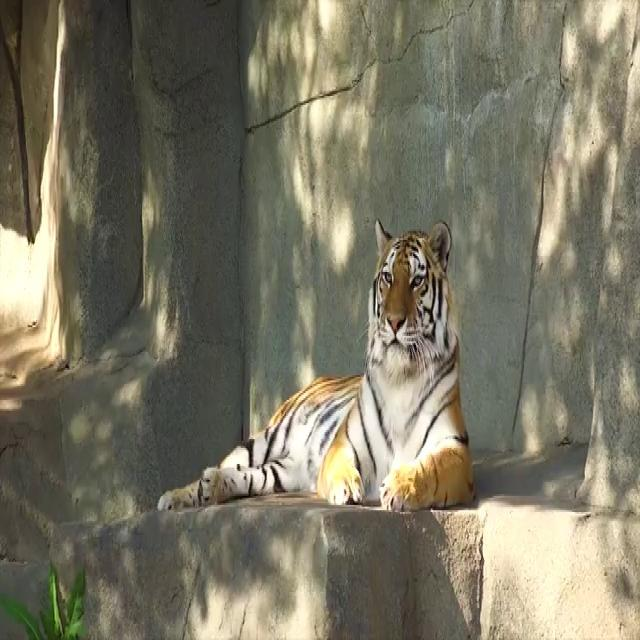tiger: (156, 217, 474, 510)
